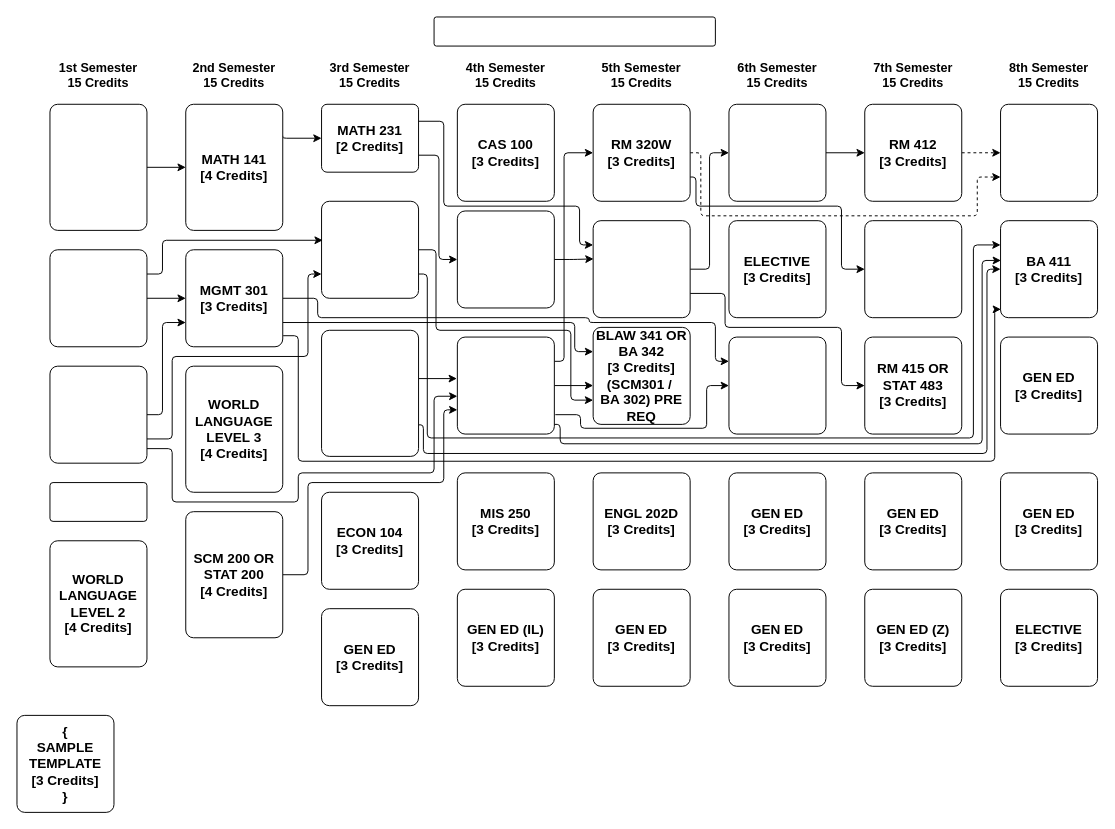
This 1115x829 diagram has some shape labels left out. The shapes that lost their labels are listed below. From the top down, each one's centre as x and y in pixels, then its label:
At point (574, 31): "Actuarial Science B.S.".
At point (98, 166): "MATH 140 [4 Credits]".
At point (777, 152): "RM 411 [3 Credits]".
At point (1049, 152): "RM 401 OR 420 [3 Credits]".
At point (370, 249): "MKTG 301 [3 Credits]".
At point (505, 259): "STAT / MATH 414 [3 Credits]".
At point (641, 269): "RM 410 [3 Credits]".
At point (913, 269): "RM 430 [3 Credits]".
At point (98, 298): "ENGL 15 [3 Credits]".
At point (370, 392): "ACCTG 211 [4 Credits]".
At point (505, 385): "FIN 301 [3 Credits]".
At point (777, 385): "BA 342 / BLAW 341 [3 Credits]".
At point (98, 414): "ECON 102 [3 Credits]".
At point (98, 501): "PSU 6 [1 Credits]".
